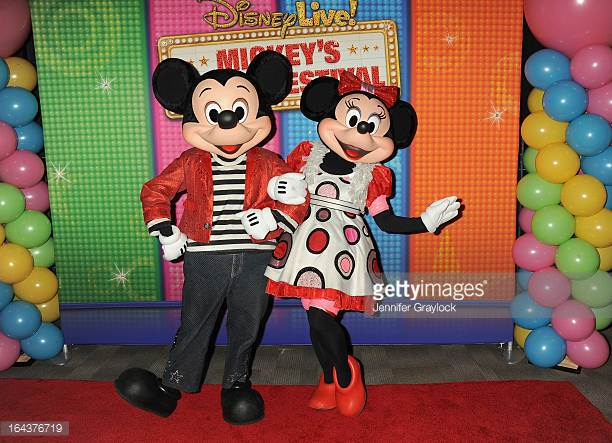Mickey: (148, 48, 296, 159)
